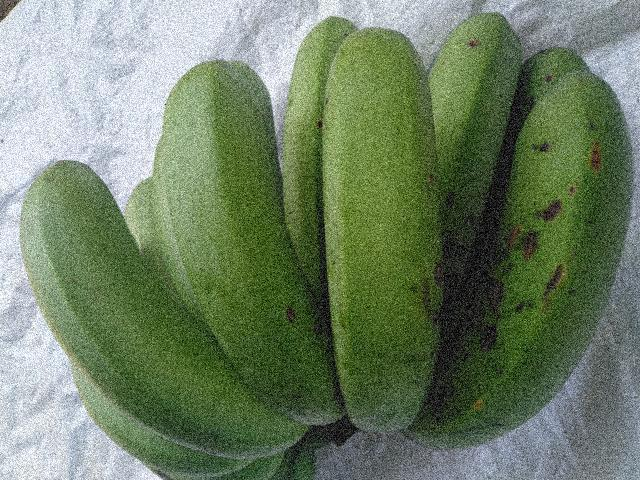unripe: (7, 153, 255, 453), (154, 39, 317, 424), (294, 15, 437, 447), (463, 71, 627, 445), (420, 10, 543, 196)
